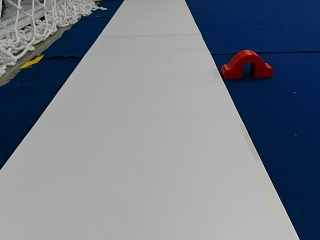bridge: (223, 50, 272, 77)
